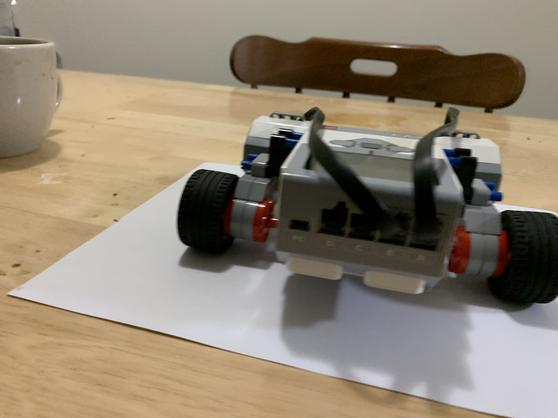robot: (178, 97, 558, 329)
